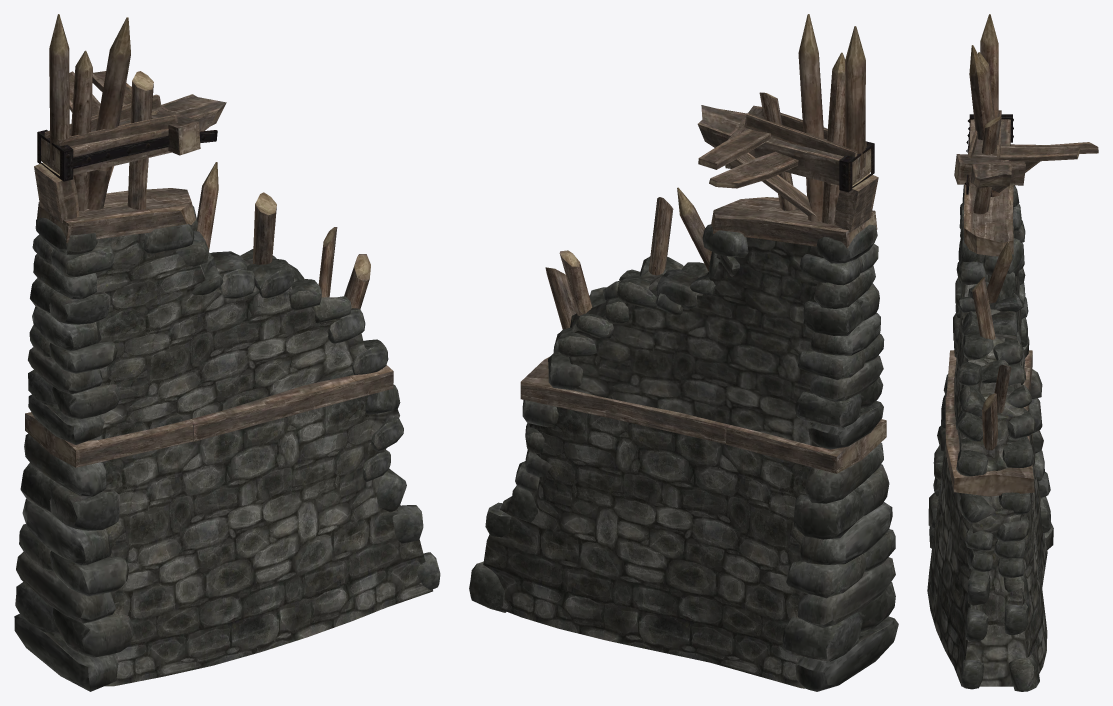
File: jav_struc_def_stone_t2_wall_brkn_c-transformed.glb
The picture shows the model from 3 angles, left to right: view 1: azimuth 30°, elevation 25°; view 2: azimuth 150°, elevation 25°; view 3: azimuth 270°, elevation 25°; orthographic projection. The views are drawn at different scales.
Parts seen in each view (by area): view 1: default; view 2: default; view 3: default.
Part boxes in pixels (x1=…): default: x1=14, y1=14, x2=440, y2=691; default: x1=469, y1=14, x2=898, y2=691; default: x1=927, y1=14, x2=1098, y2=691.
Size of the model in its own units: 6.83 by 11.24 by 3.25.
3 materials, 3 textured.
